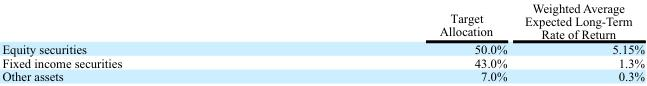table: (1, 1, 644, 83)
table column: (1, 1, 280, 83), (280, 1, 515, 83), (515, 1, 644, 83)
table column header: (1, 1, 644, 40)
table row: (1, 1, 644, 40), (1, 40, 644, 55), (1, 55, 644, 69), (1, 69, 644, 83)
